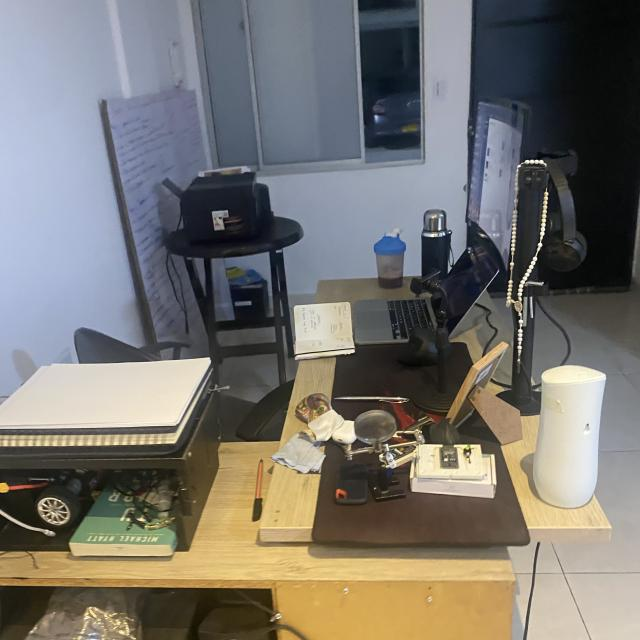obstacle: (281, 80, 628, 546), (155, 154, 321, 388)
